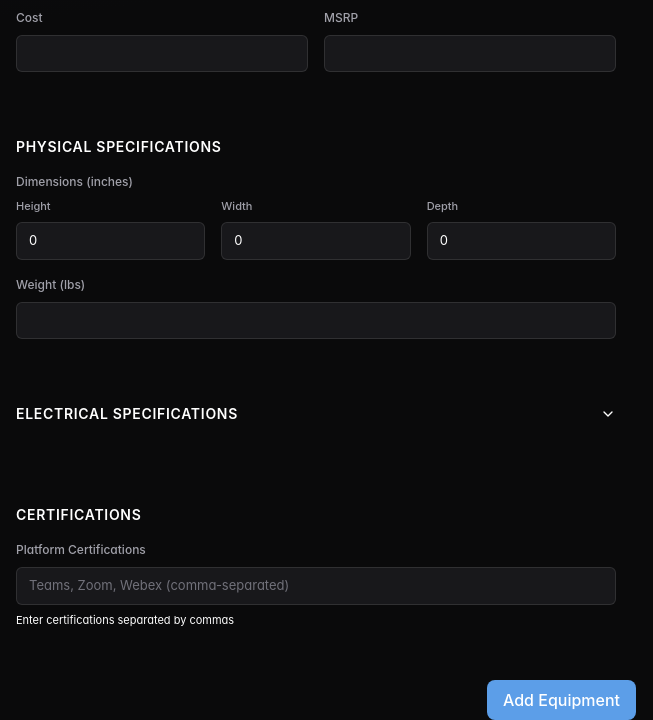
EquipmentForm › Optional Fields › expands electrical section when clicked
(page scrolled)
Click the button "Electrical Specifications". click: (127, 414)
box: [16, 403, 616, 424]
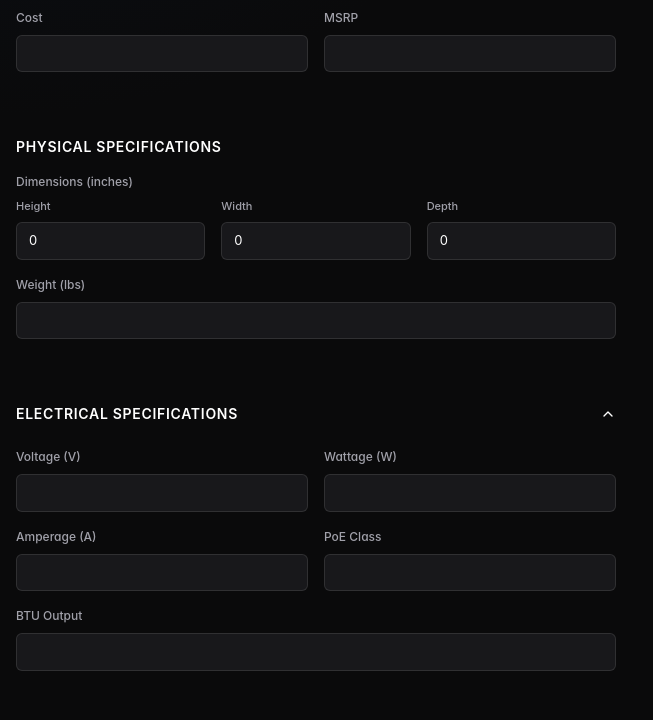
Expected: the number field labelled "Voltage (V)" is shown, [16, 474, 308, 512]
Expected: the number field labelled "Wattage (W)" is shown, [324, 474, 616, 512]
